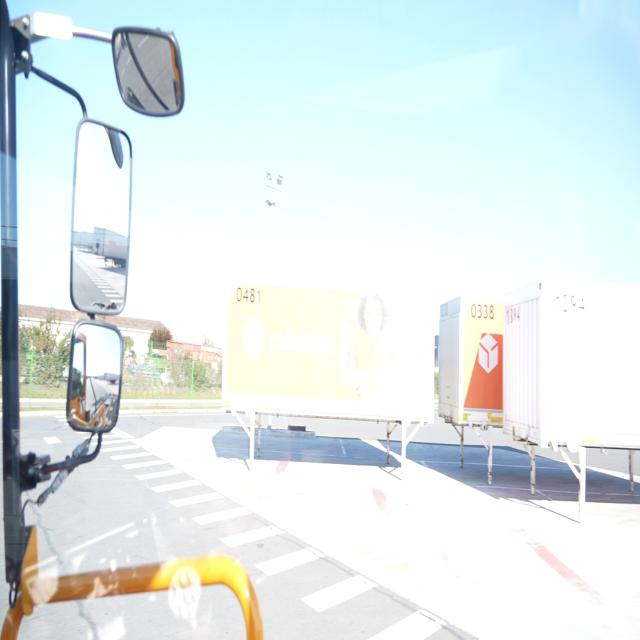Code: (233, 280, 263, 310), (468, 300, 498, 322)
